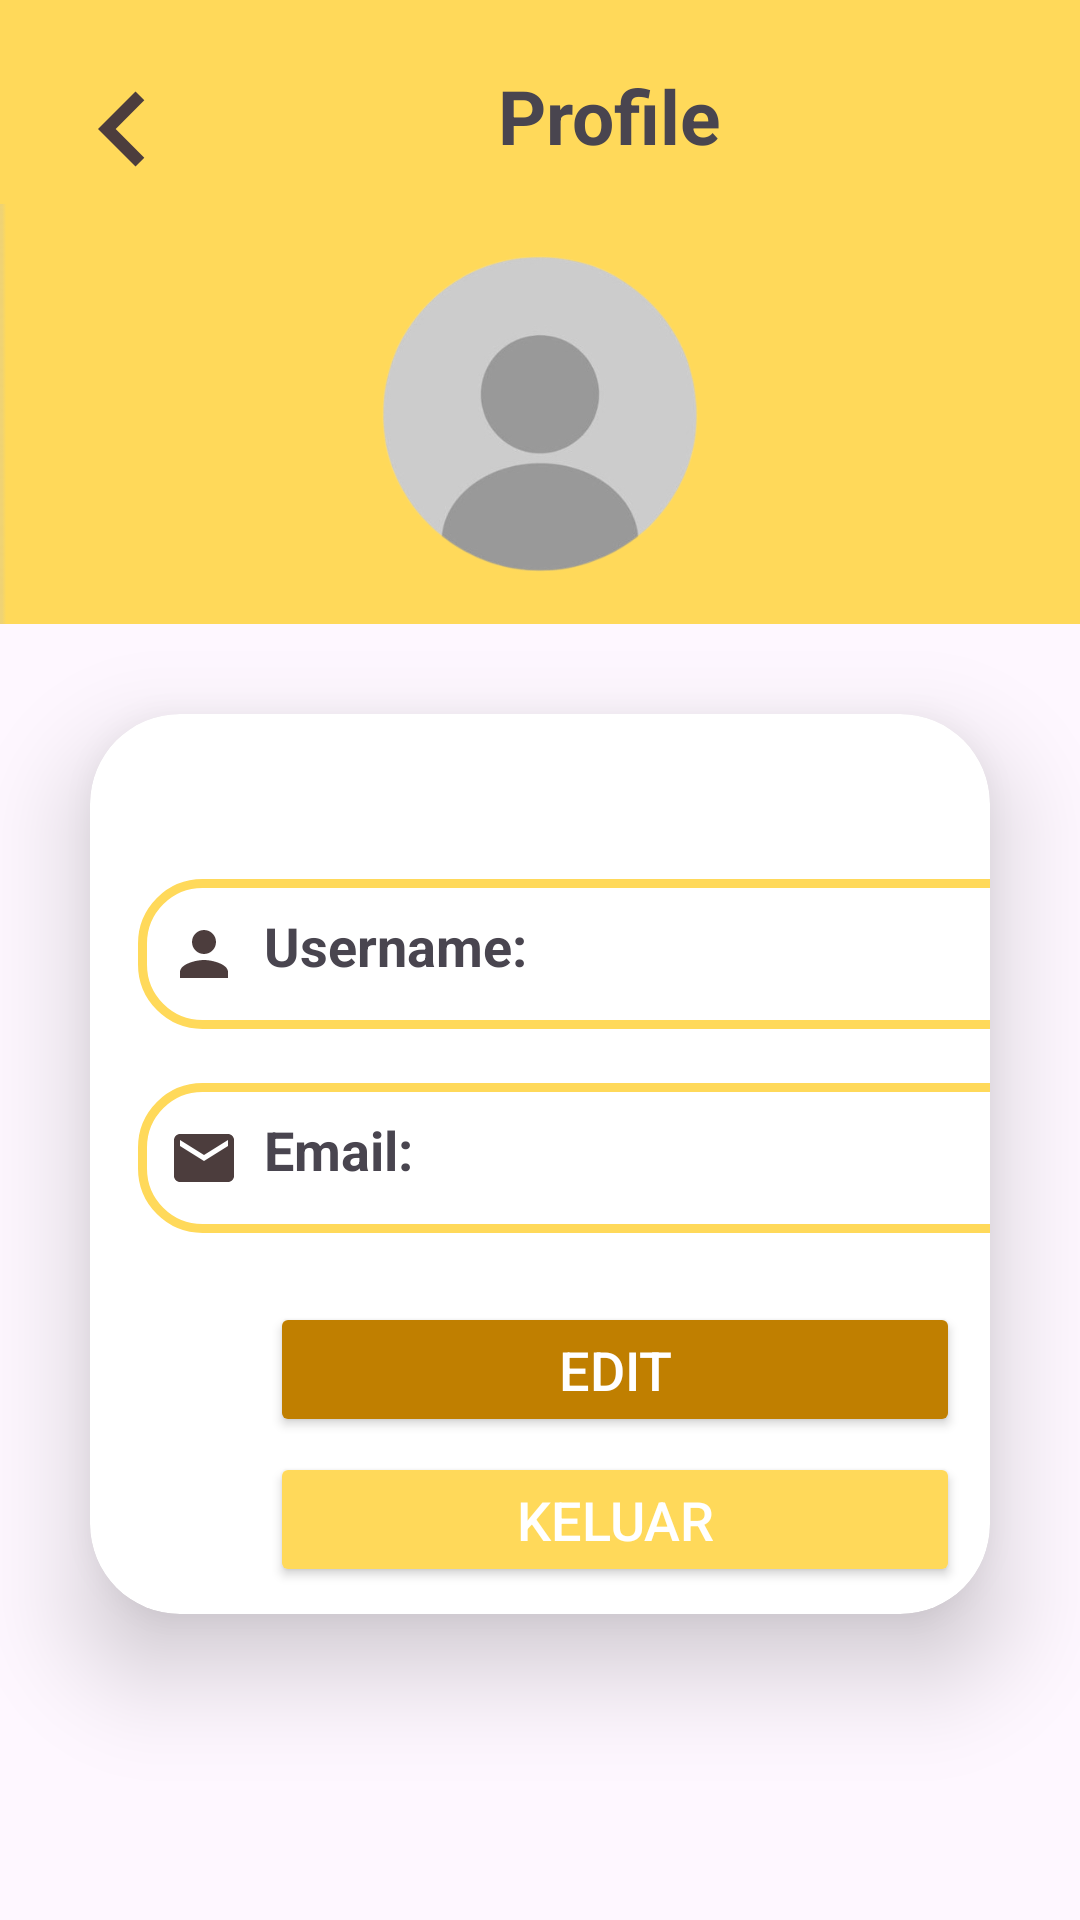

Where icons sit on this 1080x1920 app screen, as (x1, y1, x2, y2):
keyboard arrow left: (98, 91, 144, 167)
